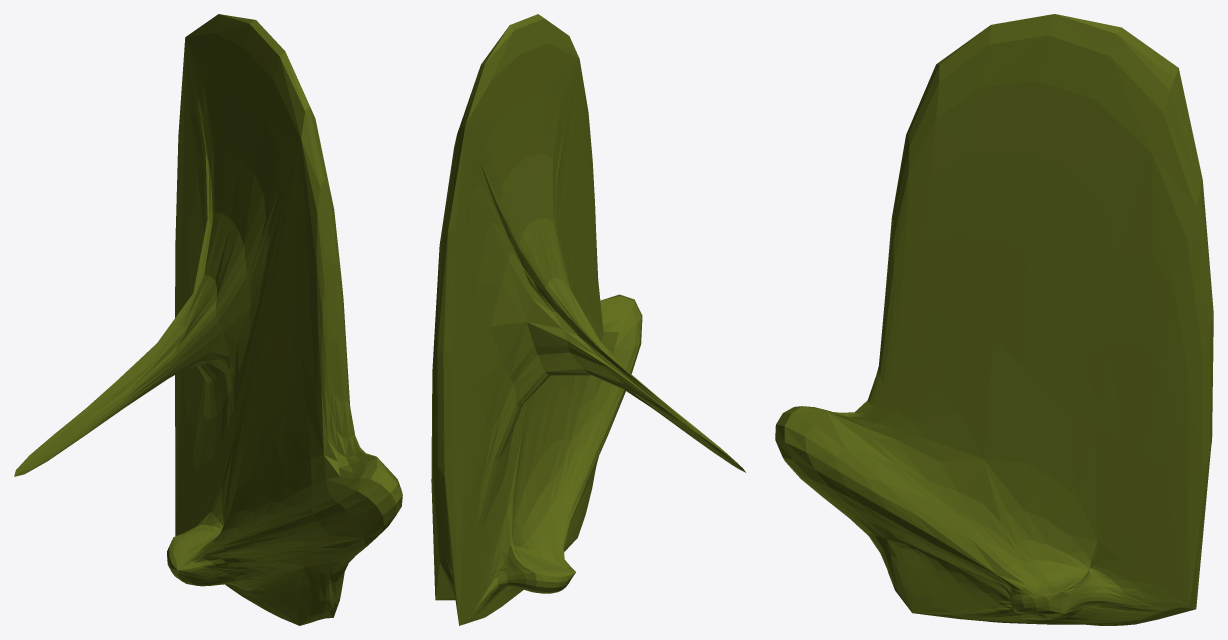
3 renders of one model, left to right at view 1: azimuth 30°, elevation 25°; view 2: azimuth 150°, elevation 25°; view 3: azimuth 270°, elevation 25°, orthographic. The views are drawn at different scales.
Visible parts, largest first — view 1: 590_Cube.2372; view 2: 590_Cube.2372; view 3: 590_Cube.2372.
Boxes of the visible parts, x1,y1,x2,y2 form: 590_Cube.2372: [14, 14, 402, 625]; 590_Cube.2372: [431, 14, 745, 625]; 590_Cube.2372: [775, 14, 1213, 625].
Bounding box in the file's own units: 6.33 × 11.43 × 7.36.
